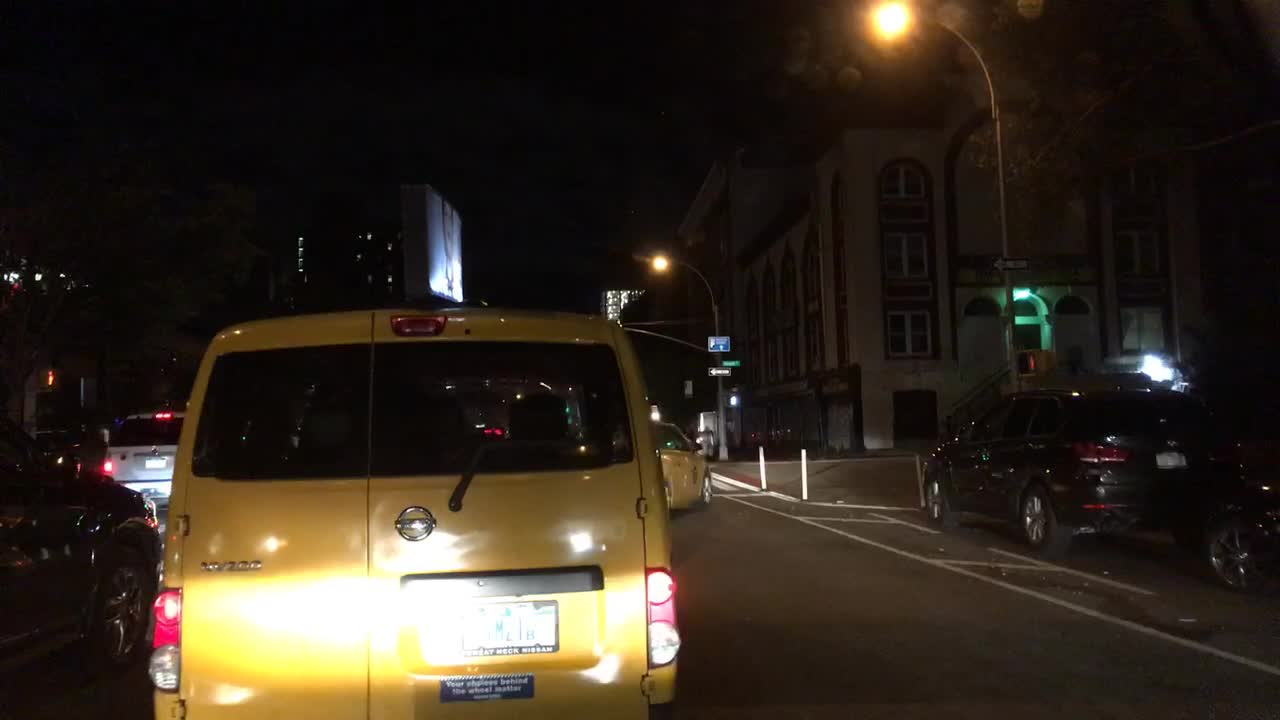car: (145, 299, 683, 718), (921, 376, 1226, 556), (1, 415, 163, 717), (1211, 417, 1279, 594), (100, 403, 198, 508), (649, 417, 718, 513)
traffic light: (1017, 346, 1051, 371), (40, 361, 57, 388), (725, 389, 742, 407)
traffic sign: (992, 256, 1030, 270), (705, 334, 728, 351), (706, 369, 730, 380), (722, 357, 741, 367)
